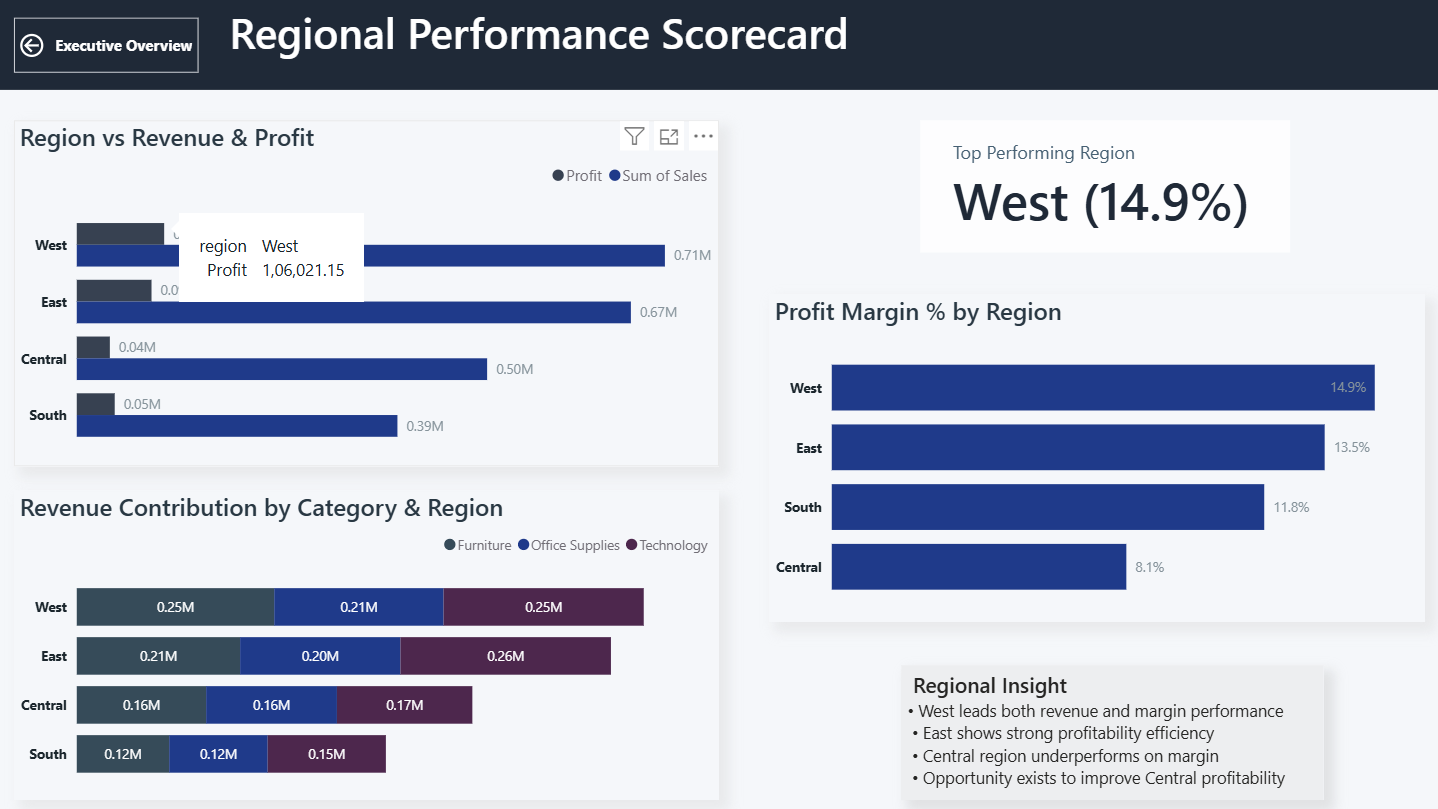

The page's visual inventory and layout, read from the dashboard file:
{"tool":"powerbi","page":{"name":"Regional Performance","canvas":[1280,720],"ordinal":2},"visuals":[{"type":"textbox","box":[0,0,1280,80.7],"z":0},{"type":"clusteredBarChart","title":"Region vs Revenue & Profit","fields":{"Category":["retail_analysis orders.region"],"Y":["Sum(retail_analysis orders.Profit)","Sum(retail_analysis orders.Sales)"]},"box":[13.5,107.6,626.1,308.2],"z":1000},{"type":"actionButton","box":[13.5,17.1,163.9,48.9],"z":2000},{"type":"barChart","title":"Profit Margin % by Region","fields":{"Category":["retail_analysis orders.region"],"Y":["retail_analysis orders.Profit Margin %"]},"box":[684.8,261.7,583.3,291],"z":3000},{"type":"barChart","title":"Revenue Contribution by Category & Region","fields":{"Category":["retail_analysis orders.region"],"Y":["Sum(retail_analysis orders.Sales)"],"Series":["retail_analysis products.category"]},"box":[13.5,436.6,626.1,275.1],"z":4000},{"type":"cardVisual","fields":{"Data":["retail_analysis products.Best Region Display"]},"box":[819.3,107.6,328.9,117.4],"z":5000},{"type":"textbox","box":[802.2,591.9,375.4,119.8],"z":6000}]}

Visuals, with their boxes in screenshot pixels (x1, y1, x2, y2), scaled from the page's 1280x720 canvas onto the 1438x809 screenshot:
textbox: (0, 0, 1437, 91)
"Region vs Revenue & Profit" clusteredBarChart: (15, 121, 719, 467)
actionButton: (15, 19, 199, 74)
"Profit Margin % by Region" barChart: (769, 294, 1425, 621)
"Revenue Contribution by Category & Region" barChart: (15, 491, 719, 800)
cardVisual - retail_analysis products.Best Region Display: (920, 121, 1290, 253)
textbox: (901, 665, 1323, 800)
